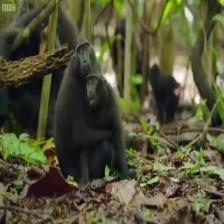monkey: (82, 61, 109, 114), (73, 36, 97, 81), (144, 61, 166, 93)
